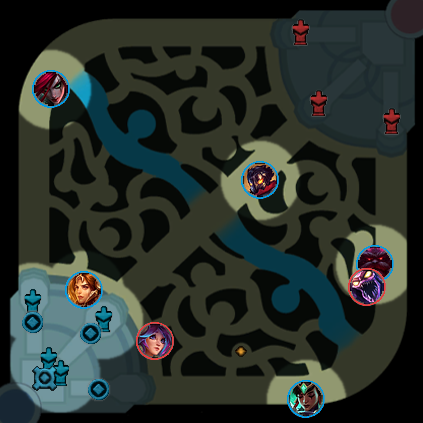Karma: (287, 380, 325, 418)
Katarina: (32, 70, 70, 108)
Leona: (65, 271, 103, 309)
Lillia: (136, 322, 174, 360)
Ornn: (356, 245, 394, 283)
Skarner: (348, 268, 386, 306)
Viktor: (241, 161, 279, 199)
